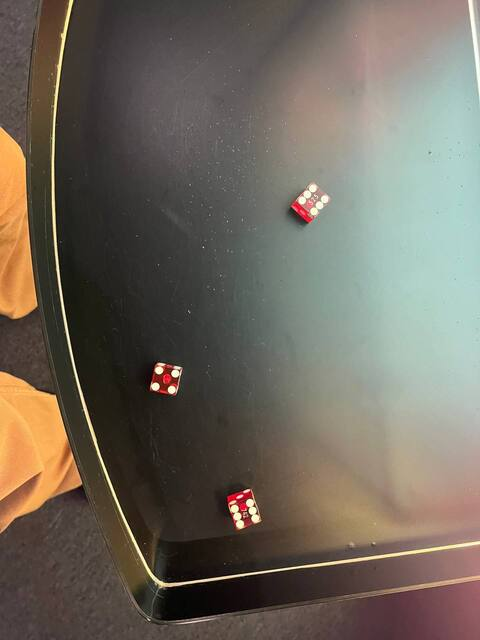four: (146, 364, 183, 399)
six: (290, 179, 333, 226), (228, 495, 264, 534)
